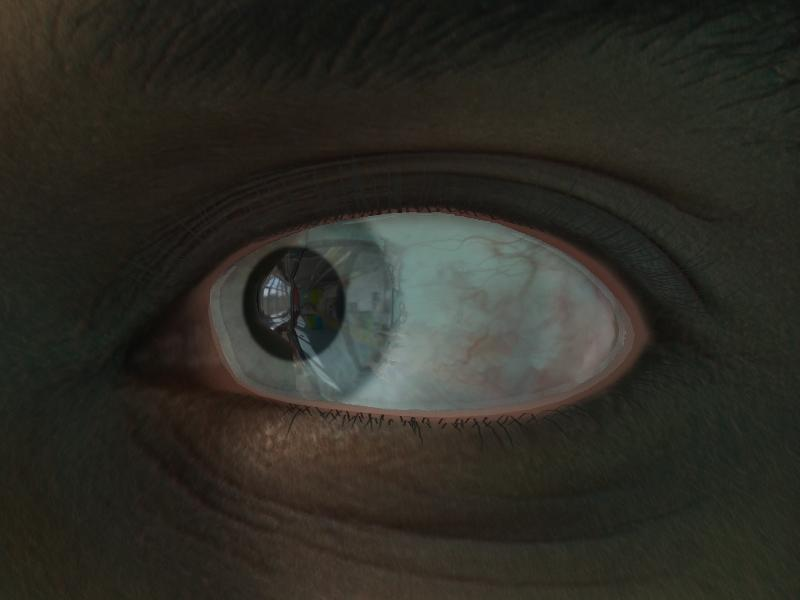eye: (213, 222, 397, 406)
